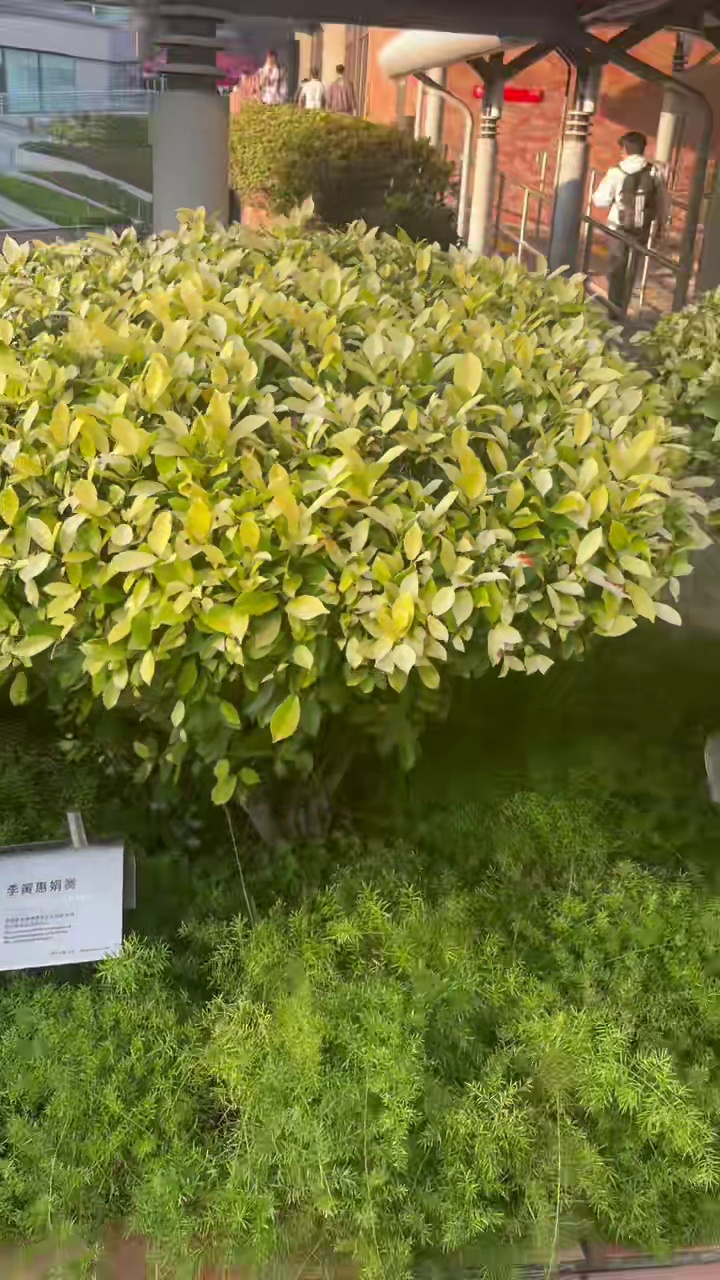Golden-leaves Fig: (0, 209, 704, 824)
